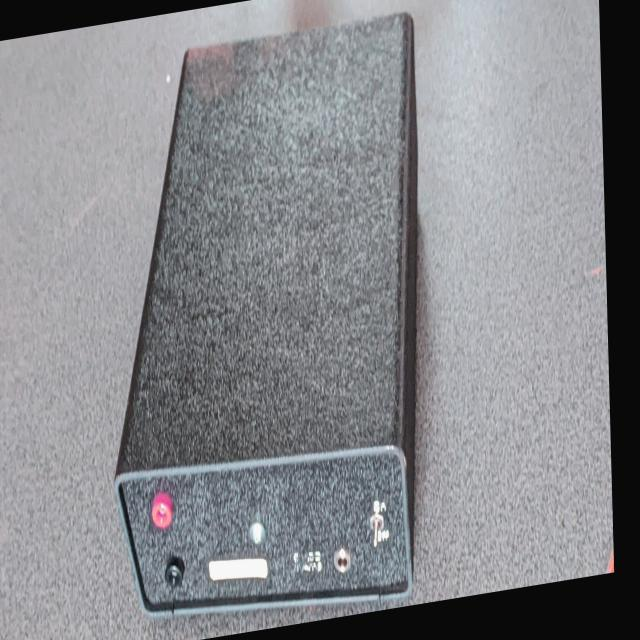SRP Digital Spark Timer: (97, 0, 464, 640)
